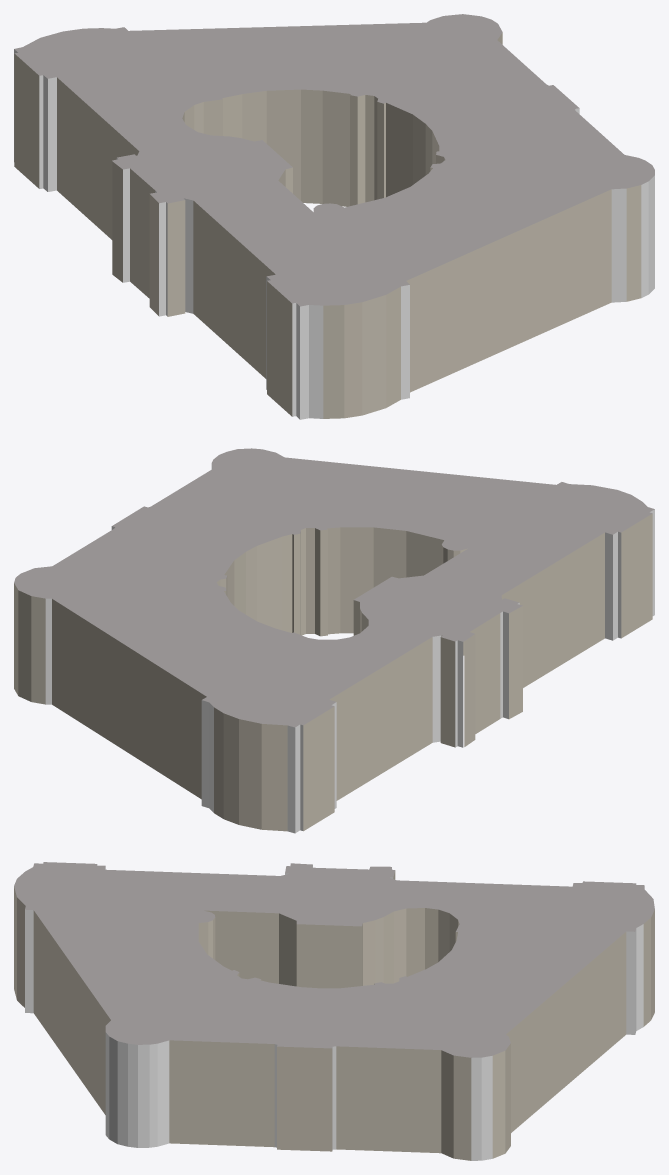
The picture shows the model from 3 angles, top to bottom: view 1: azimuth 30°, elevation 25°; view 2: azimuth 150°, elevation 25°; view 3: azimuth 270°, elevation 25°; orthographic projection. The views are drawn at different scales.
Visible parts, largest first — view 1: tuile; view 2: tuile; view 3: tuile.
Boxes of the visible parts, x1,y1,x2,y2 form: tuile: (14,14,654,419); tuile: (14,448,654,833); tuile: (14,862,654,1160).
Bounding box in the file's own units: 93.9 × 23.06 × 130.
